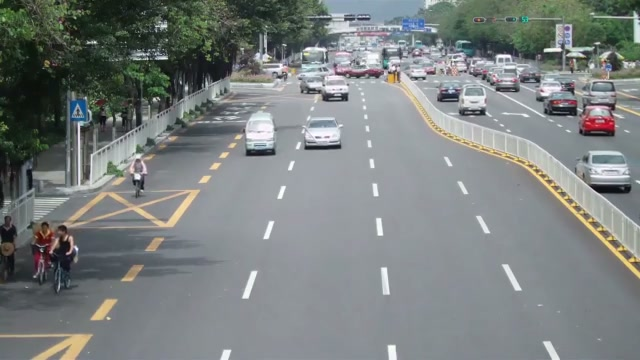car: (575, 150, 632, 193), (244, 111, 277, 156), (302, 115, 343, 149), (578, 79, 617, 112), (579, 105, 616, 136), (458, 85, 488, 115), (543, 91, 578, 116), (320, 76, 350, 102), (299, 71, 328, 94), (535, 81, 563, 102), (437, 81, 463, 102), (493, 72, 520, 92)
pedestrian: (48, 225, 78, 289), (31, 221, 55, 281), (0, 215, 18, 280), (129, 156, 148, 197)
